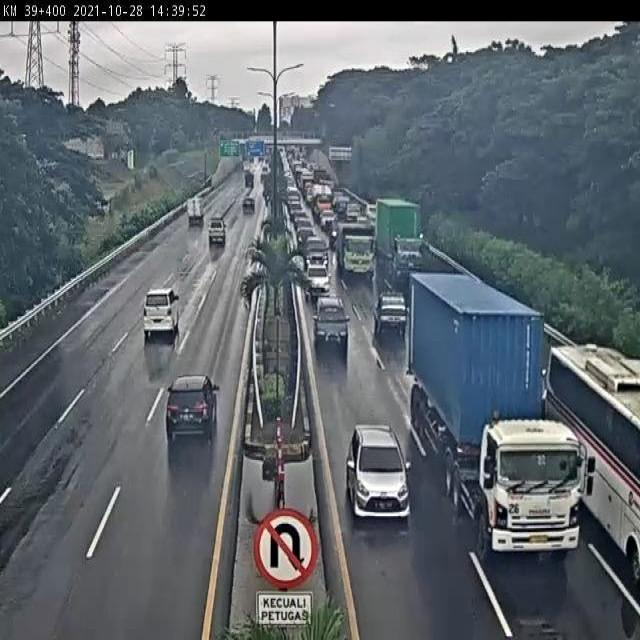big bus: (536, 332, 640, 568)
big truck: (406, 270, 569, 534), (377, 194, 425, 274), (337, 224, 374, 277)
car: (346, 421, 407, 515), (167, 375, 216, 436), (502, 339, 535, 396), (315, 296, 350, 345), (144, 290, 179, 338), (373, 292, 408, 335), (302, 232, 327, 263), (304, 259, 329, 285), (208, 219, 226, 245), (295, 226, 314, 246)
small truck: (186, 194, 207, 227)
